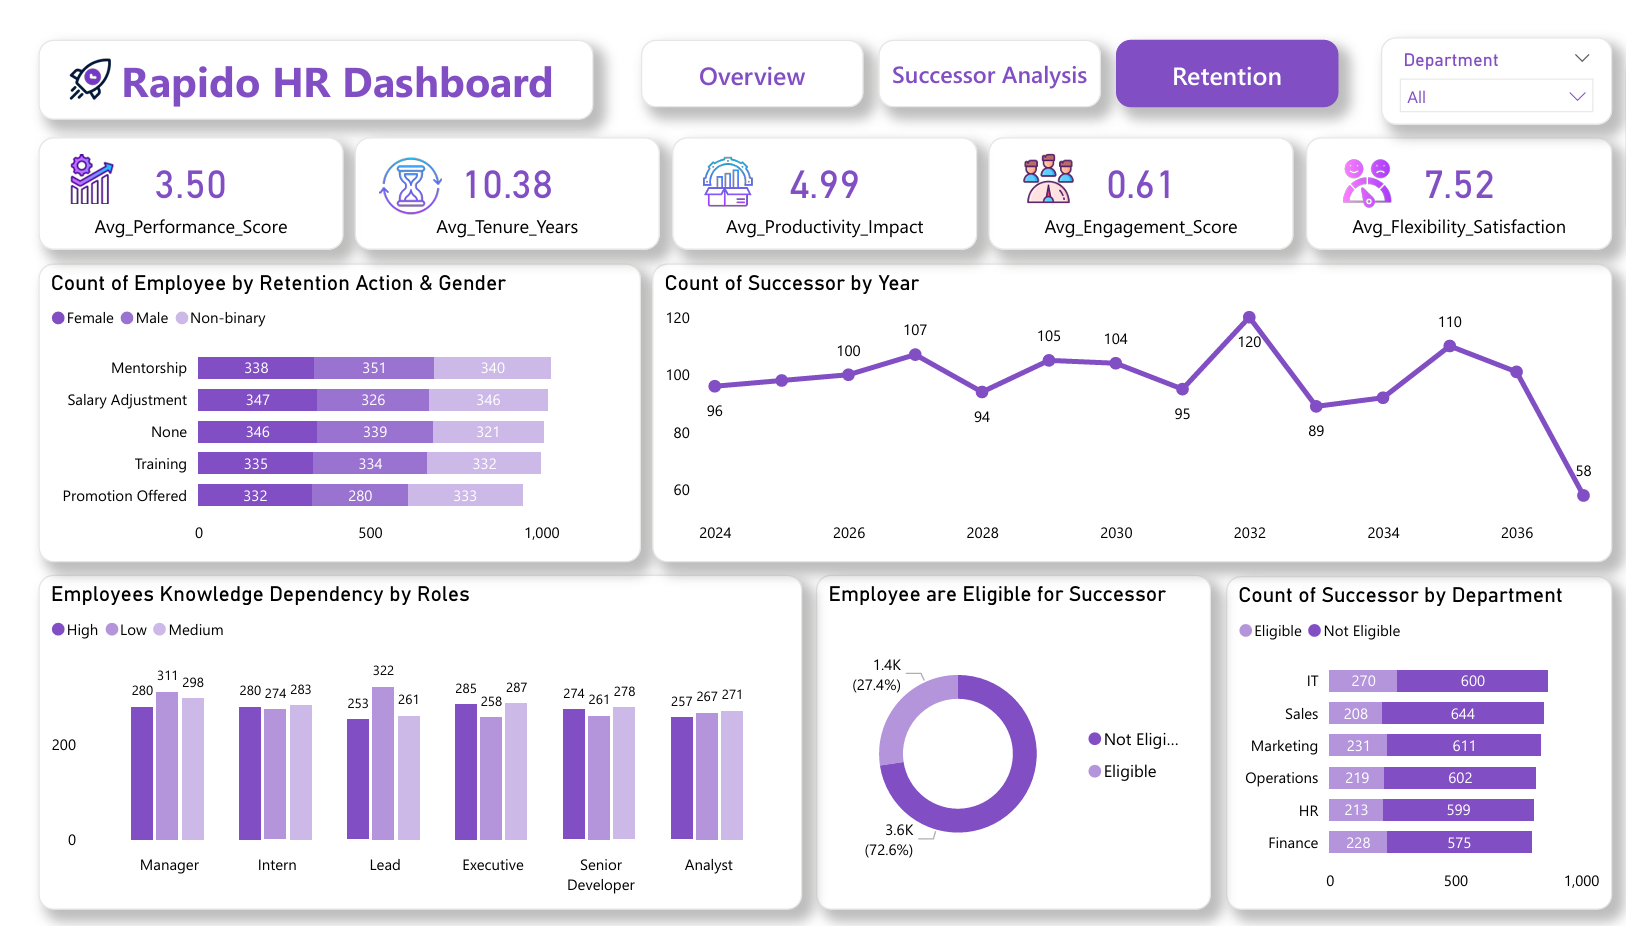

This screenshot's page, from the dashboard's own definition file:
{"tool":"powerbi","page":{"name":"Retention","canvas":[1280,720],"ordinal":2},"visuals":[{"type":"barChart","title":"Count of Successor by Department","fields":{"Category":["Rapido DataSet.Department"],"Y":["CountNonNull(Rapido DataSet.Successor)"],"Series":["Rapido DataSet.Successor"]},"box":[959.6,440.5,308.9,266],"z":0},{"type":"donutChart","title":"Employee are Eligible for Successor","fields":{"Y":["CountNonNull(Rapido DataSet.Successor)"],"Category":["Rapido DataSet.Successor"]},"box":[632.1,439.1,316.1,267.4],"z":1000},{"type":"clusteredColumnChart","title":"Employees Knowledge Dependency by Roles","fields":{"Category":["Rapido DataSet.Role_Title"],"Series":["Rapido DataSet.Knowledge_Dependency_Level"],"Y":["CountNonNull(Rapido DataSet.Knowledge_Dependency_Level)"]},"box":[10,439.1,610.7,267.4],"z":2000},{"type":"barChart","title":"Count of Employee by Retention Action & Gender","fields":{"Category":["Rapido DataSet.Retention_Action_Taken"],"Y":["CountNonNull(Rapido DataSet.Employee_ID)"],"Series":["Rapido DataSet.Gender"]},"box":[10,190.2,482,238.8],"z":3000},{"type":"lineChart","fields":{"Category":["Rapido DataSet.Last_Engagement_Check.Variation.Date Hierarchy.Year"],"Y":["CountNonNull(Rapido DataSet.Successor)"]},"box":[500.6,190.2,768,238.8],"z":4000},{"type":"shape","box":[9.9,11.3,443.6,63.8],"z":5000},{"type":"card","fields":{"Values":["Avg(Rapido DataSet.Performance_Score)"]},"box":[9.9,88.7,244,90],"z":6000},{"type":"card","fields":{"Values":["Avg(Rapido DataSet.Tenure_Years)"]},"box":[263.4,88.7,244,90],"z":7000},{"type":"card","fields":{"Values":["Avg(Rapido DataSet.Productivity_Impact_Score)"]},"box":[517,88.7,244,90],"z":8000},{"type":"card","fields":{"Values":["Avg(Rapido DataSet.Engagement_Score)"]},"box":[770.5,88.7,244,90],"z":9000},{"type":"card","fields":{"Values":["Avg(Rapido DataSet.Flexibility_Satisfaction)"]},"box":[1024,88.7,244.6,90.1],"z":10000},{"type":"slicer","fields":{"Values":["Rapido DataSet.Department"]},"box":[1084.3,8.5,184.3,70.9],"z":11000},{"type":"shape","box":[491.8,11.3,178.6,53.9],"z":12000},{"type":"shape","box":[681.7,11.3,178.6,53.9],"z":13000},{"type":"shape","box":[871.7,11.3,178.6,53.9],"z":14000},{"type":"image","box":[28.3,19.8,46.8,45.4],"z":15000},{"type":"image","box":[535.6,98.9,51.1,51.1],"z":16000},{"type":"image","box":[790,95.6,55.6,52],"z":17000},{"type":"image","box":[1045.6,95.6,54.4,60],"z":18000},{"type":"image","box":[278,95,60,65],"z":19000},{"type":"image","box":[28.3,93.3,50,60],"z":20000}]}

Visuals, with their boxes in screenshot pixels (x1, y1, x2, y2), scaled from the page's 1280x720 canvas onto the 1650x951 screenshot:
"Count of Successor by Department" barChart: 1237, 582, 1635, 933
"Employee are Eligible for Successor" donutChart: 815, 580, 1222, 933
"Employees Knowledge Dependency by Roles" clusteredColumnChart: 13, 580, 800, 933
"Count of Employee by Retention Action & Gender" barChart: 13, 251, 634, 567
lineChart - Rapido DataSet.Last_Engagement_Check.Variation.Date Hierarchy.Year x CountNonNull(Rapido DataSet.Successor): 645, 251, 1635, 567
shape: 13, 15, 585, 99
card - Avg(Rapido DataSet.Performance_Score): 13, 117, 327, 236
card - Avg(Rapido DataSet.Tenure_Years): 340, 117, 654, 236
card - Avg(Rapido DataSet.Productivity_Impact_Score): 666, 117, 981, 236
card - Avg(Rapido DataSet.Engagement_Score): 993, 117, 1308, 236
card - Avg(Rapido DataSet.Flexibility_Satisfaction): 1320, 117, 1635, 236
slicer - Rapido DataSet.Department: 1398, 11, 1635, 105
shape: 634, 15, 864, 86
shape: 879, 15, 1109, 86
shape: 1124, 15, 1354, 86
image: 36, 26, 97, 86
image: 690, 131, 756, 198
image: 1018, 126, 1090, 195
image: 1348, 126, 1418, 206
image: 358, 125, 436, 211
image: 36, 123, 101, 202
